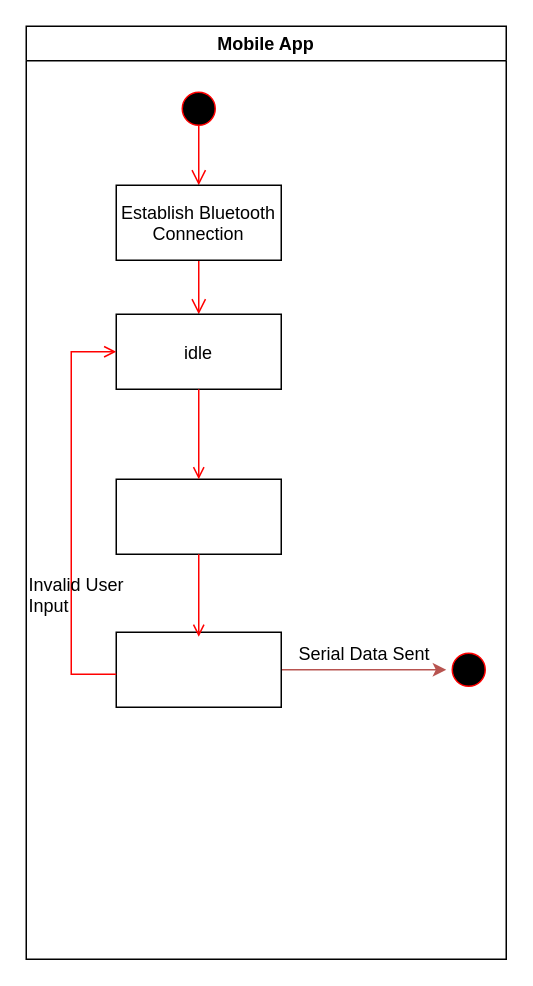
The diagram is 533 pixels wide and 986 high, and some of its shapes have lost their labels. Each missing label, with the centre of its shape:
"Attempt Serial Send" goes at point (198, 669).
"user action" goes at point (198, 516).
